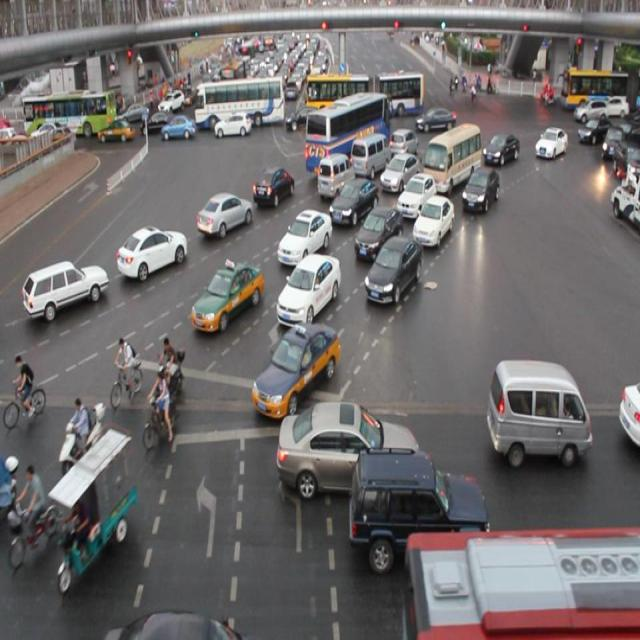car: (348, 447, 487, 566), (279, 400, 418, 501), (250, 324, 340, 416), (184, 263, 258, 341), (24, 256, 109, 320), (274, 251, 340, 332), (360, 232, 422, 308), (117, 223, 188, 280), (274, 212, 330, 270), (345, 209, 397, 270), (197, 190, 253, 238), (412, 192, 455, 250), (327, 178, 378, 224), (392, 173, 434, 220), (254, 165, 297, 206), (461, 166, 498, 212), (380, 149, 421, 188), (483, 131, 518, 166), (533, 126, 566, 160), (390, 126, 418, 161)
truck: (486, 354, 590, 465), (422, 125, 479, 189), (351, 132, 393, 177), (316, 153, 354, 200)
van: (400, 526, 640, 640), (306, 91, 392, 177)
